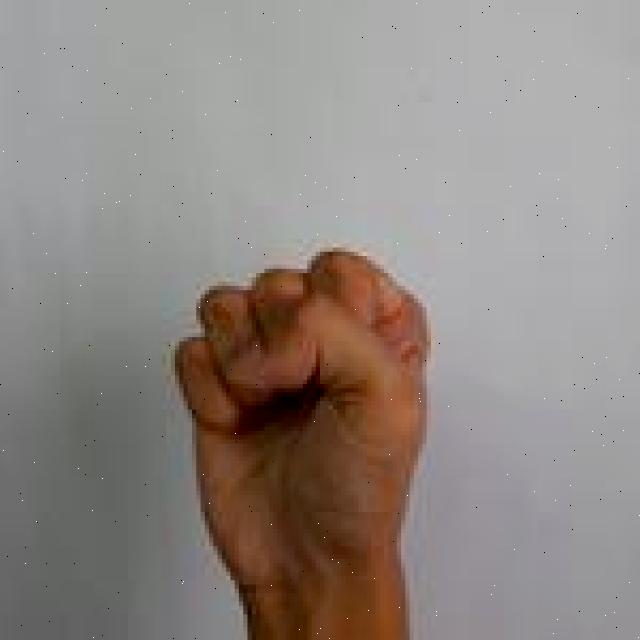S: (168, 240, 440, 640)
